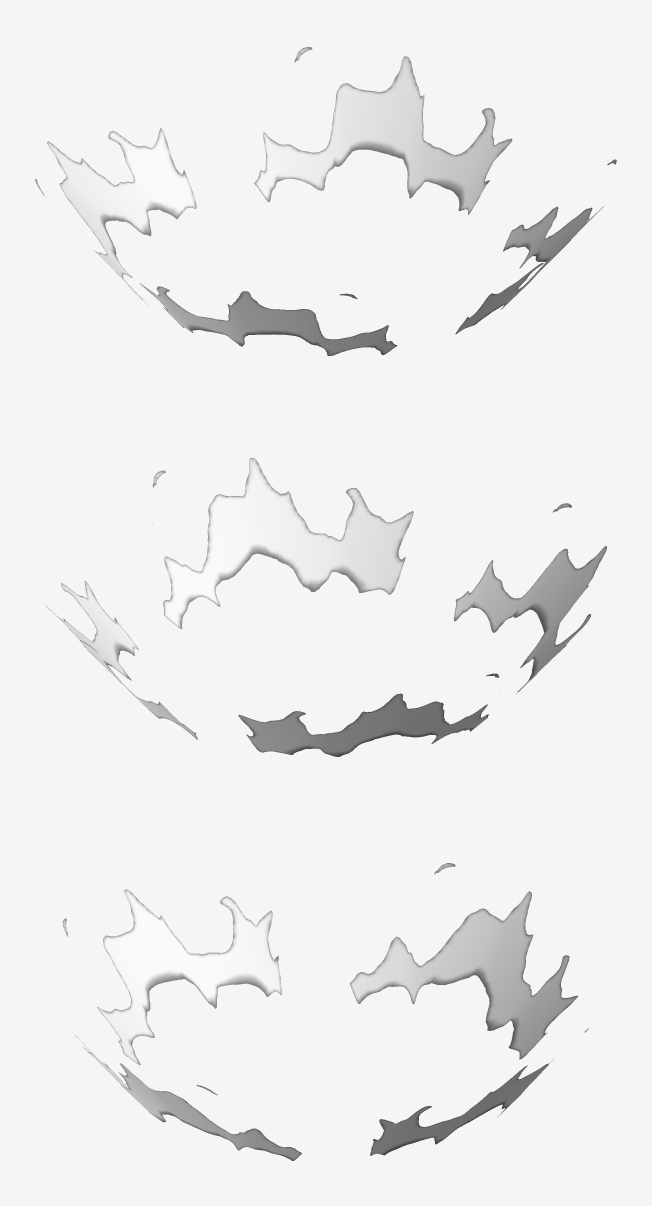
The model's file is boss_skill_02111.FBX.
3 views of the same model, one above another, from view 1: azimuth 30°, elevation 25°; view 2: azimuth 150°, elevation 25°; view 3: azimuth 270°, elevation 25° (orthographic).
Visible parts, largest first — view 1: Cylinder01; view 2: Cylinder01; view 3: Cylinder01.
Boxes of the visible parts, <box> form: Cylinder01: <box>35,47,616,355</box>; Cylinder01: <box>45,458,606,756</box>; Cylinder01: <box>62,863,588,1160</box>.
Size of the model in its own units: 1.69 by 1.66 by 0.5246.
